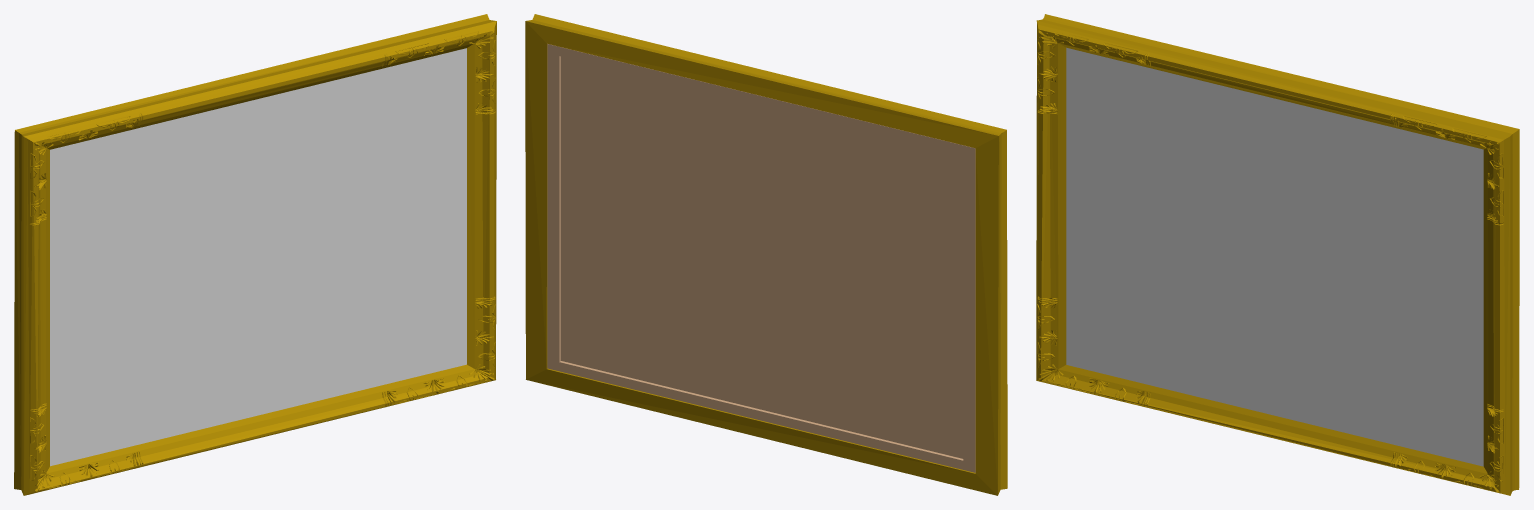
File: frame2_golden_379_288.glb
3 renders of one model, left to right at view 1: azimuth 30°, elevation 25°; view 2: azimuth 150°, elevation 25°; view 3: azimuth 330°, elevation 25°, orthographic.
Parts seen in each view (by area): view 1: canvas, frame; view 2: ura, frame; view 3: canvas, frame.
Boxes of the visible parts, x1=… form: canvas: x1=50, y1=48, x2=466, y2=466; frame: x1=14, y1=14, x2=496, y2=495; ura: x1=547, y1=44, x2=975, y2=472; frame: x1=525, y1=14, x2=1007, y2=495; canvas: x1=1066, y1=47, x2=1483, y2=466; frame: x1=1036, y1=14, x2=1519, y2=495.
Size of the model in its own units: 222 by 161 by 12.52.
